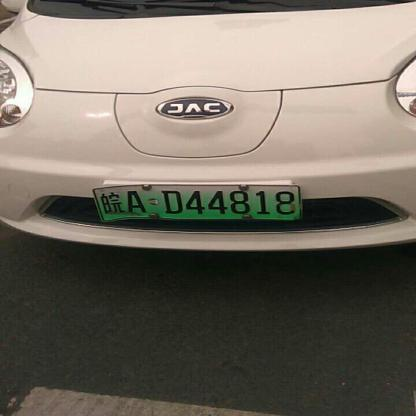lp: (95, 185, 300, 221)
